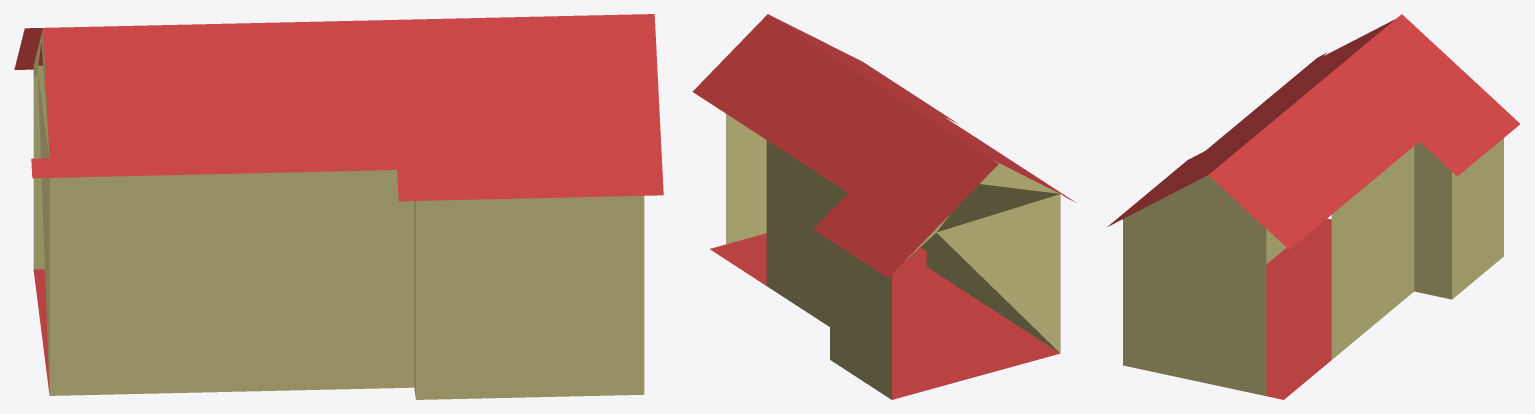
The picture shows the model from 3 angles, left to right: view 1: azimuth 30°, elevation 25°; view 2: azimuth 150°, elevation 25°; view 3: azimuth 270°, elevation 25°; orthographic projection. The views are drawn at different scales.
Size of the model in its own units: 28.12 by 25.05 by 14.32.
